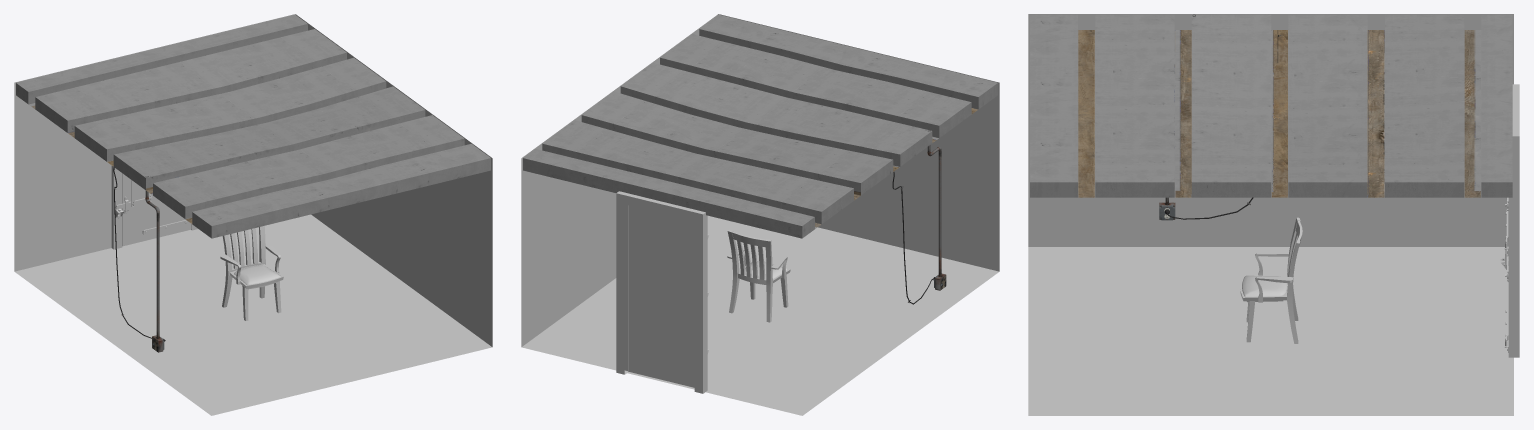
3 renders of one model, left to right at view 1: azimuth 30°, elevation 25°; view 2: azimuth 150°, elevation 25°; view 3: azimuth 270°, elevation 25°, orthographic. The views are drawn at different scales.
Parts seen in each view (by area): view 1: wallsAndFloor, ceiling, chair:deskChair, theDoor:door, lampWithOutlet, theDoor:rusted_iron; view 2: wallsAndFloor, ceiling, theDoor:door, chair:deskChair, lampWithOutlet; view 3: wallsAndFloor, ceiling, theDoor:door, chair:deskChair, lampWithOutlet.
Boxes of the visible parts, x1,y1,x2,y2 form: wallsAndFloor: (14, 14, 492, 415); ceiling: (16, 14, 490, 238); chair:deskChair: (220, 226, 283, 320); theDoor:door: (111, 166, 197, 249); lampWithOutlet: (113, 167, 165, 352); theDoor:rusted_iron: (115, 180, 190, 234); wallsAndFloor: (521, 14, 999, 415); ceiling: (523, 14, 997, 238); theDoor:door: (616, 191, 707, 393); chair:deskChair: (727, 230, 790, 322); lampWithOutlet: (892, 130, 946, 304); wallsAndFloor: (1028, 14, 1513, 415); ceiling: (1030, 14, 1512, 197); theDoor:door: (1508, 84, 1519, 357); chair:deskChair: (1240, 217, 1302, 343); lampWithOutlet: (1159, 14, 1280, 220).
Bounding box in the file's own units: 491 × 316 × 602.
